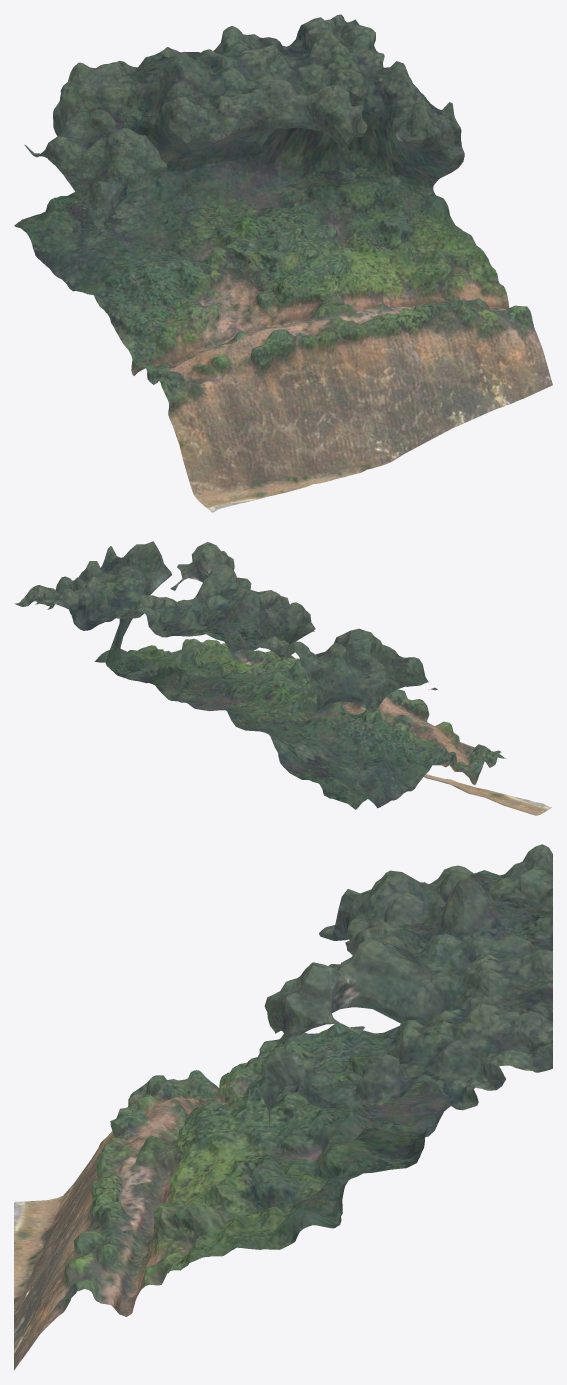
Rendered from Tile_+004_+004_L20_000000t3.glb.
3 renders of one model, top to bottom at view 1: azimuth 30°, elevation 25°; view 2: azimuth 150°, elevation 25°; view 3: azimuth 270°, elevation 25°, orthographic. The views are drawn at different scales.
Visible parts, largest first — view 1: rtc; view 2: rtc; view 3: rtc.
Part boxes in pixels (x1,y1,x2,y2): rtc: (14, 14, 552, 512); rtc: (14, 541, 551, 815); rtc: (14, 844, 552, 1370).
Size of the model in its own units: 25.63 by 21.9 by 25.63.
Materials: 4 (4 with a texture image).
